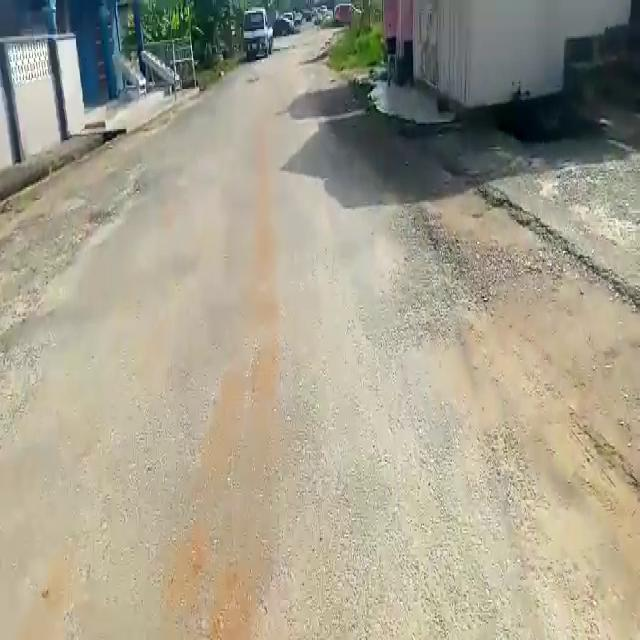Pothole: (417, 180, 609, 298)
